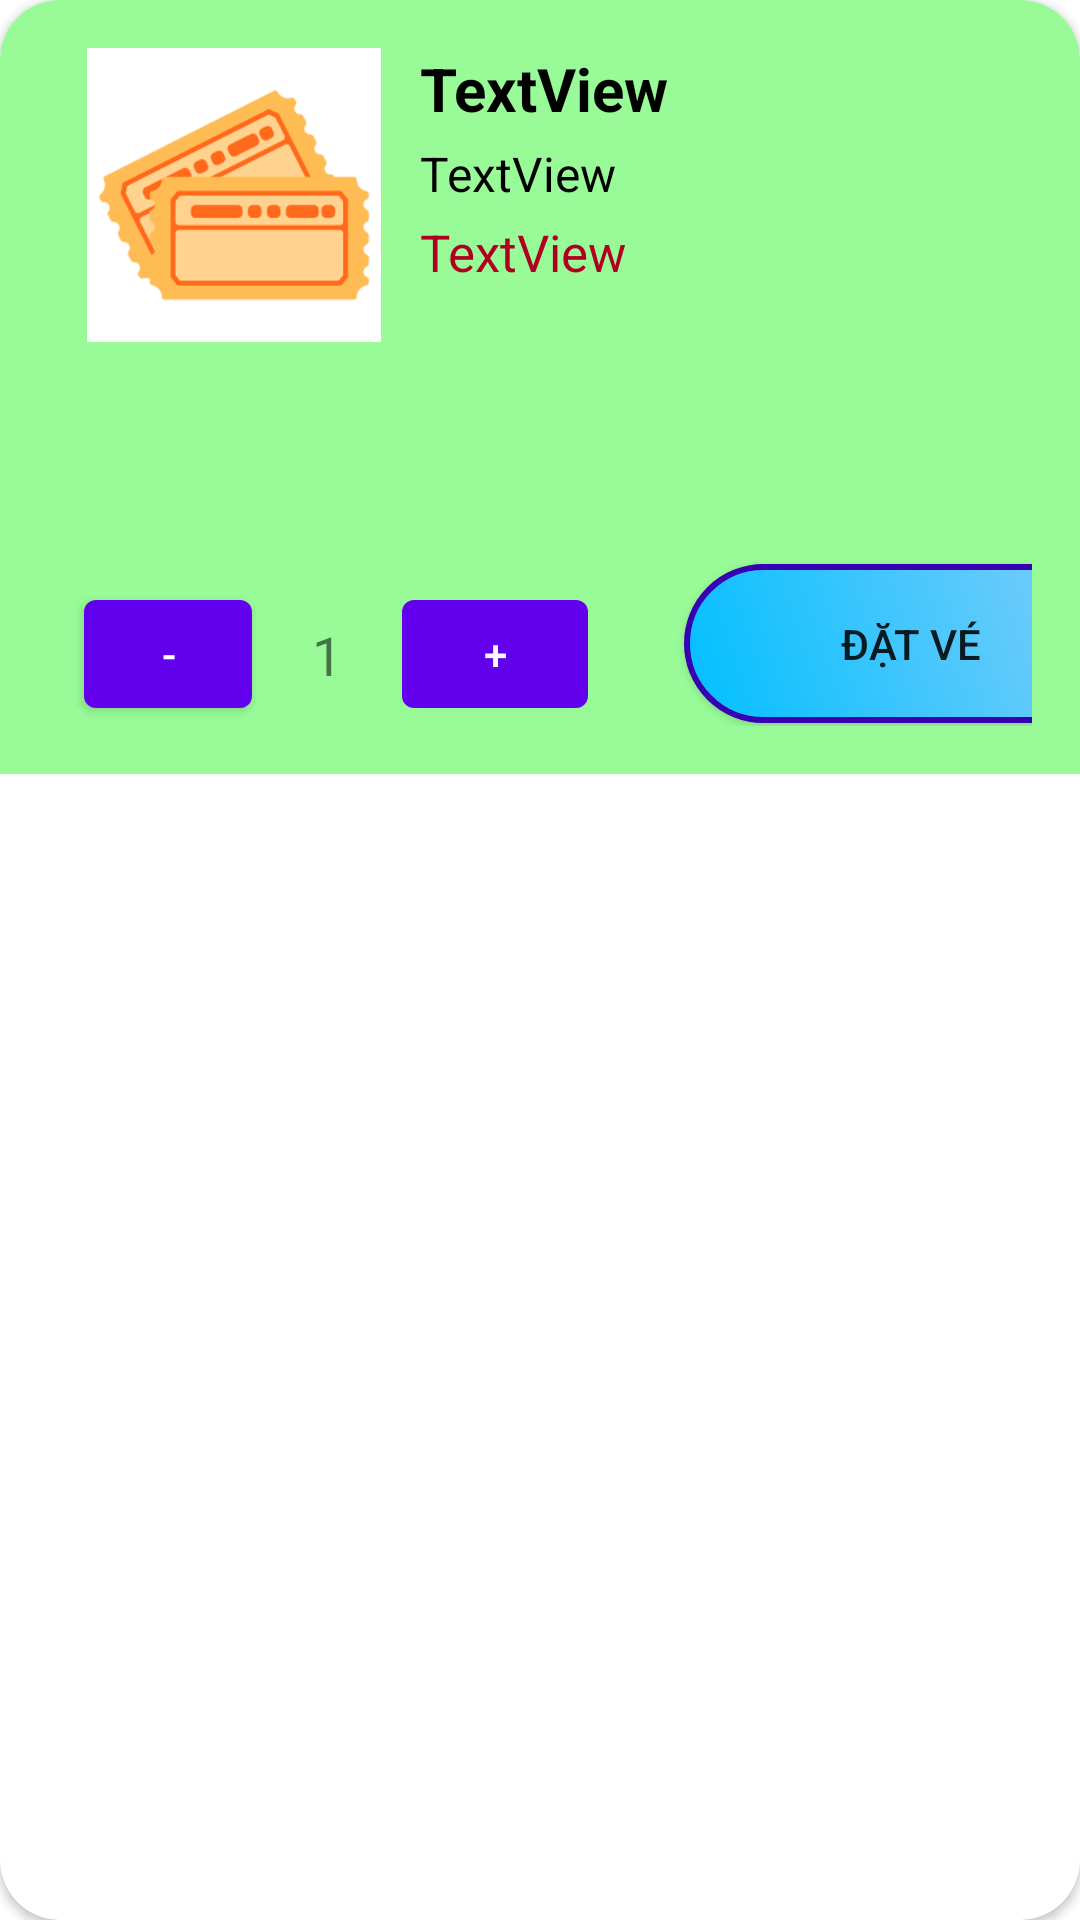

Icons on this 1080px×1920px Android screen, each with the point to tap as [x,y]:
ticketicon: [234,195]
